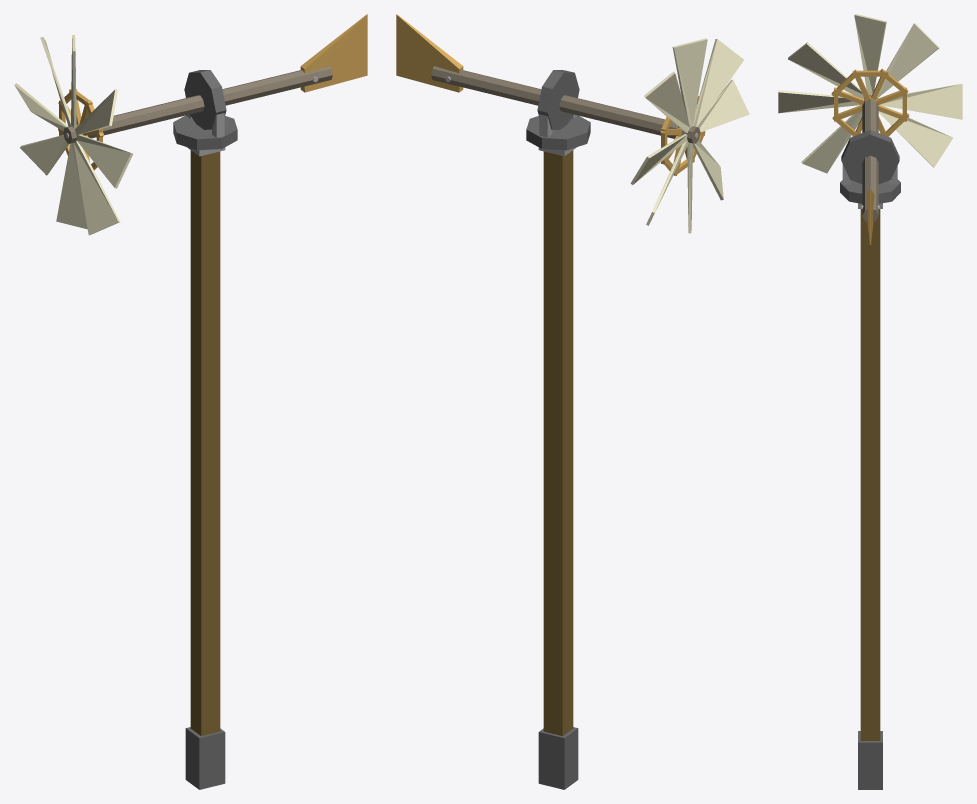
File: windmill.fbx
3 views of the same model, side by side, from view 1: azimuth 30°, elevation 25°; view 2: azimuth 150°, elevation 25°; view 3: azimuth 270°, elevation 25° (orthographic). The views are drawn at different scales.
Visible parts, largest first — view 1: Cube_4, Cylinder; view 2: Cube_4, Cylinder; view 3: Cylinder, Cube_4.
Boxes of the visible parts, left/top/right/bottom form: Cube_4: left=185, top=147, right=225, bottom=789; Cylinder: left=14, top=14, right=367, bottom=235; Cube_4: left=538, top=147, right=578, bottom=789; Cylinder: left=396, top=14, right=749, bottom=233; Cylinder: left=778, top=14, right=962, bottom=244; Cube_4: left=858, top=203, right=882, bottom=789.
Bounding box in the file's own units: 710 × 1724 × 407.
